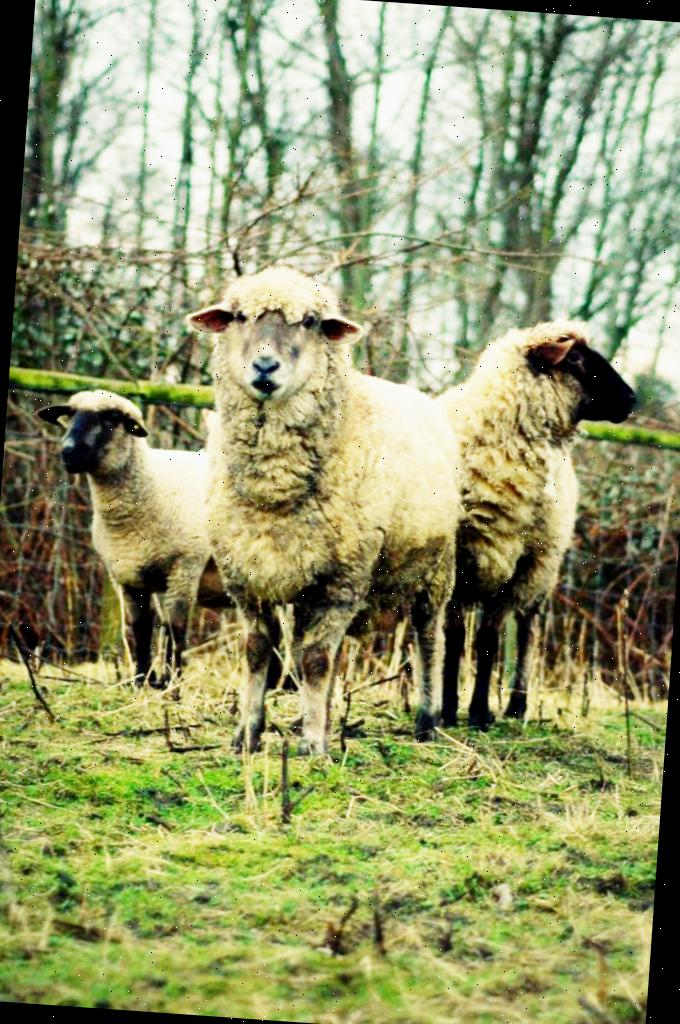Sheep: (155, 264, 473, 768), (410, 306, 652, 740), (16, 382, 249, 704)
